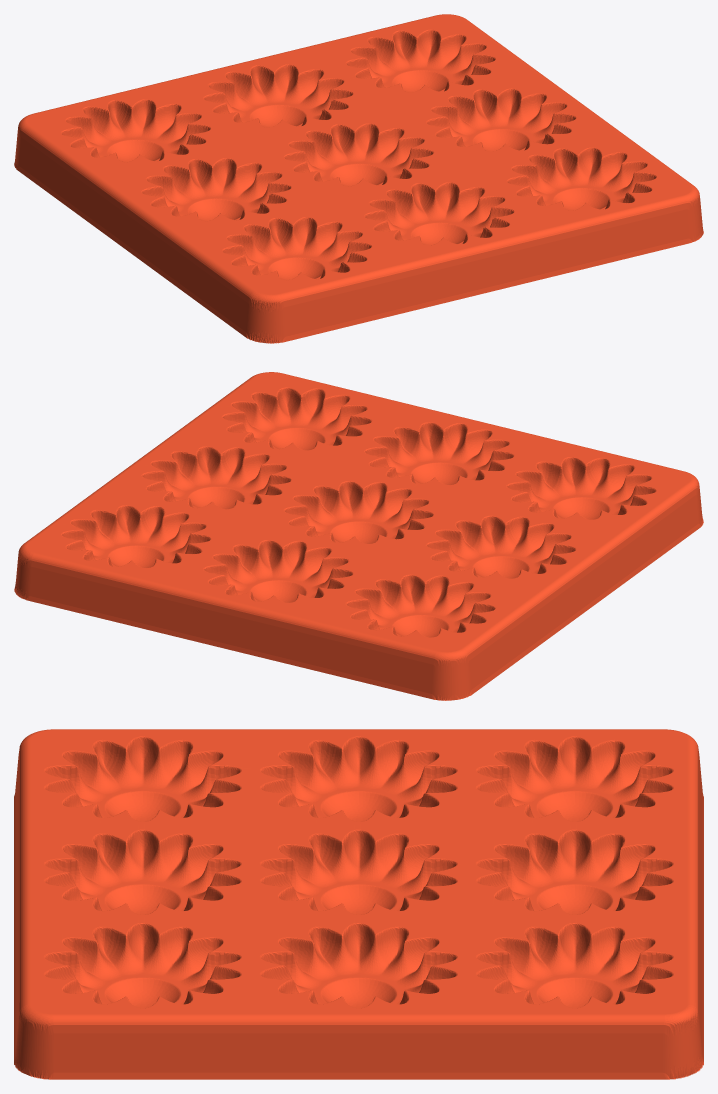
File: mold.glb
The picture shows the model from 3 angles, top to bottom: view 1: azimuth 30°, elevation 25°; view 2: azimuth 150°, elevation 25°; view 3: azimuth 270°, elevation 25°; orthographic projection. The views are drawn at different scales.
Parts seen in each view (by area): view 1: geometry_0; view 2: geometry_0; view 3: geometry_0.
Part boxes in pixels (x1,y1,x2,y2): geometry_0: (14,14,703,343); geometry_0: (14,372,703,700); geometry_0: (14,729,703,1079).
Size of the model in its own units: 0.1579 by 0.0145 by 0.1548.
